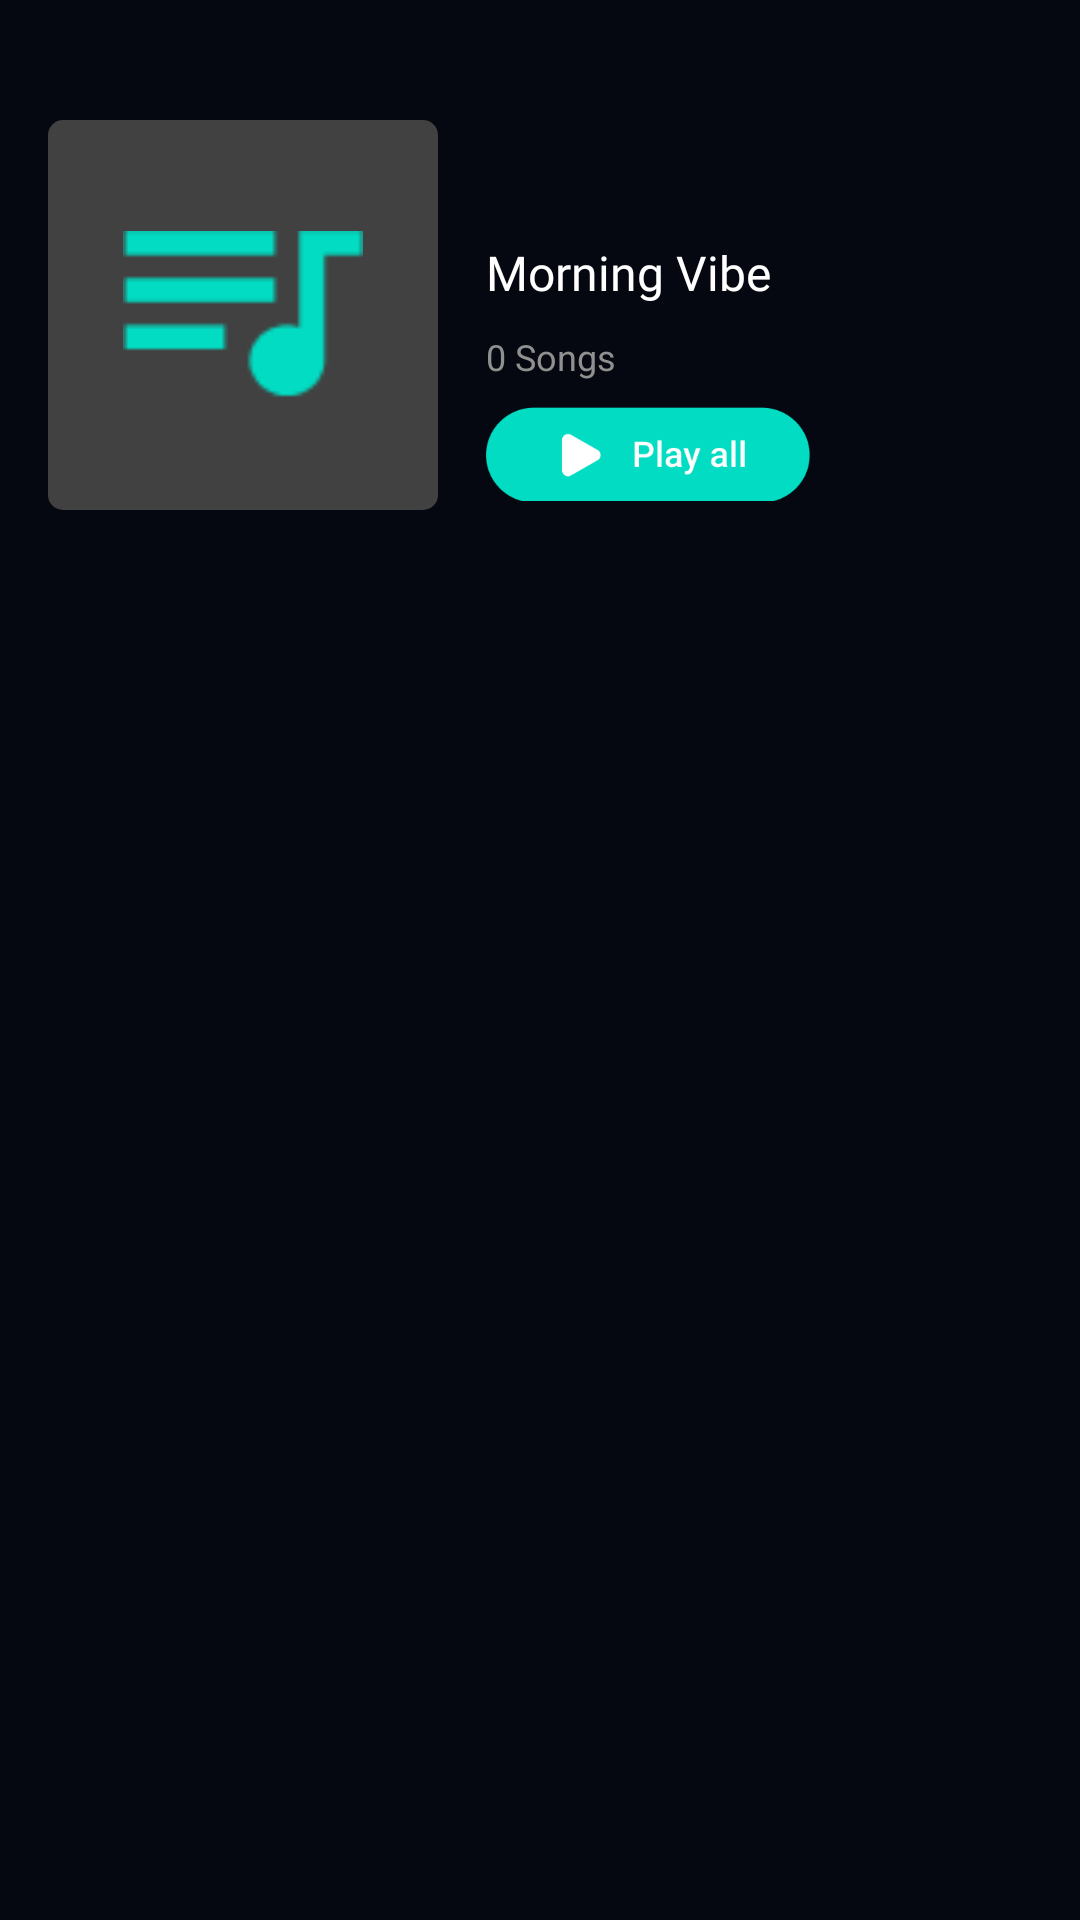

Icon click points for this 1080×1920 phone screenshot, format (x=x, y=y):
playlistmusic: (x=243, y=314)
